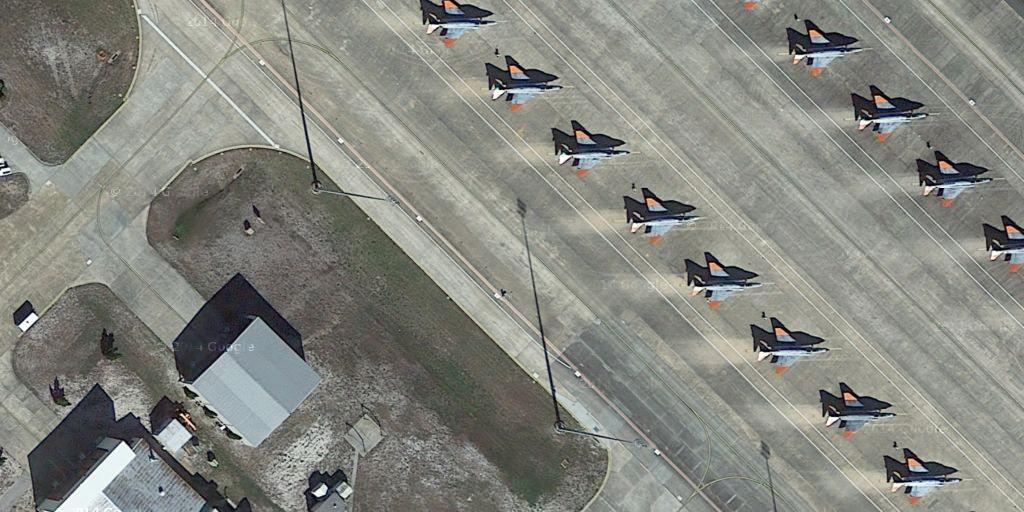plane: (618, 186, 710, 249), (546, 117, 634, 180), (682, 250, 770, 313), (777, 24, 874, 81), (481, 57, 569, 116), (817, 382, 902, 443), (744, 318, 831, 377), (851, 89, 932, 148), (911, 156, 998, 209), (882, 453, 963, 506), (417, 3, 506, 51)
